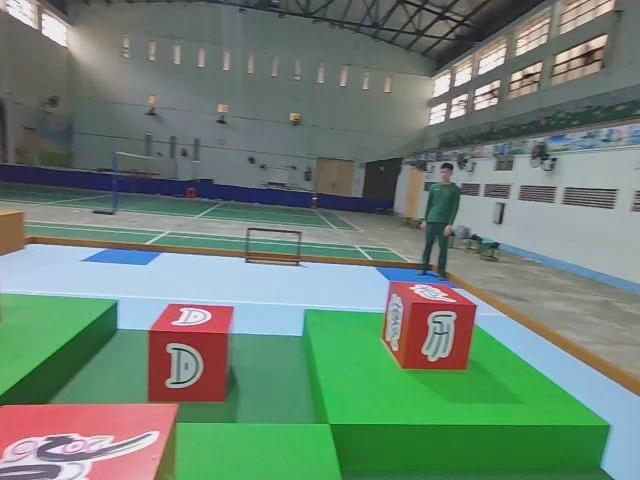R1: (0, 400, 181, 480)
R2 Fake: (381, 279, 478, 373)
R2 Real: (145, 301, 237, 403)
